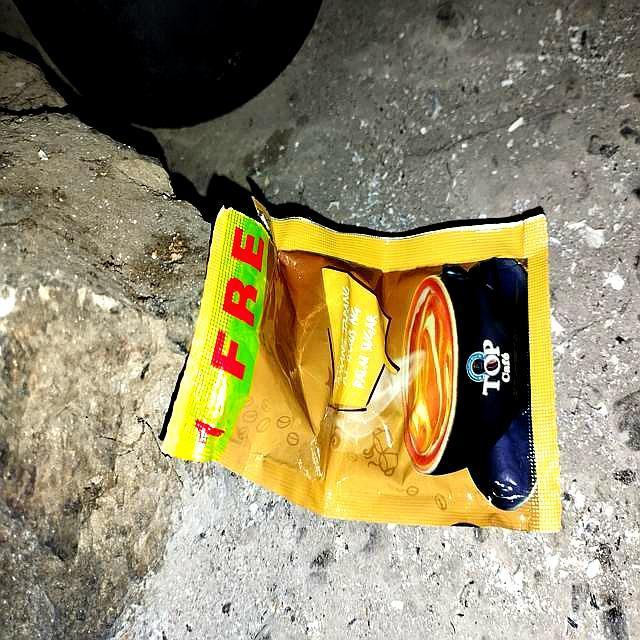Non-biodegradable: (157, 197, 563, 533)
